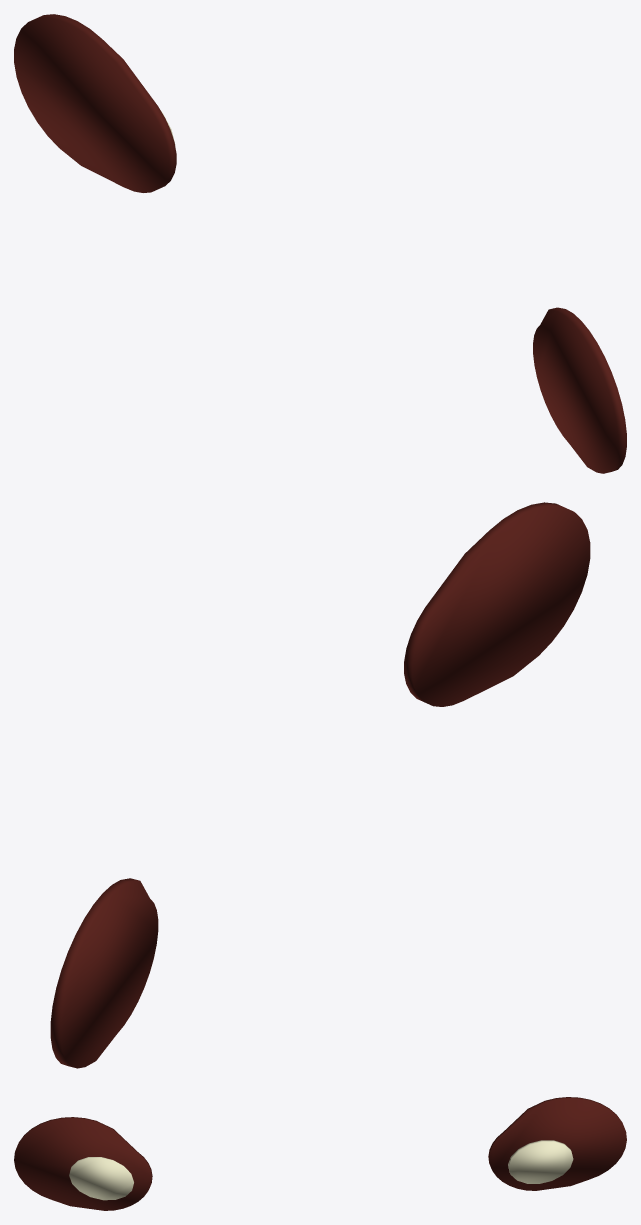
File: YorkEyes.glb
3 renders of one model, top to bottom at view 1: azimuth 30°, elevation 25°; view 2: azimuth 150°, elevation 25°; view 3: azimuth 270°, elevation 25°, orthographic. The views are drawn at different scales.
Parts seen in each view (by area): view 1: YorkEyes; view 2: YorkEyes; view 3: YorkEyes.
Part boxes in pixels (left/top/right/bottom): YorkEyes: left=14, top=14, right=626, bottom=473; YorkEyes: left=50, top=502, right=590, bottom=1068; YorkEyes: left=14, top=1097, right=626, bottom=1210.
Bounding box in the file's own units: 0.3676 × 0.4499 × 2.92.
